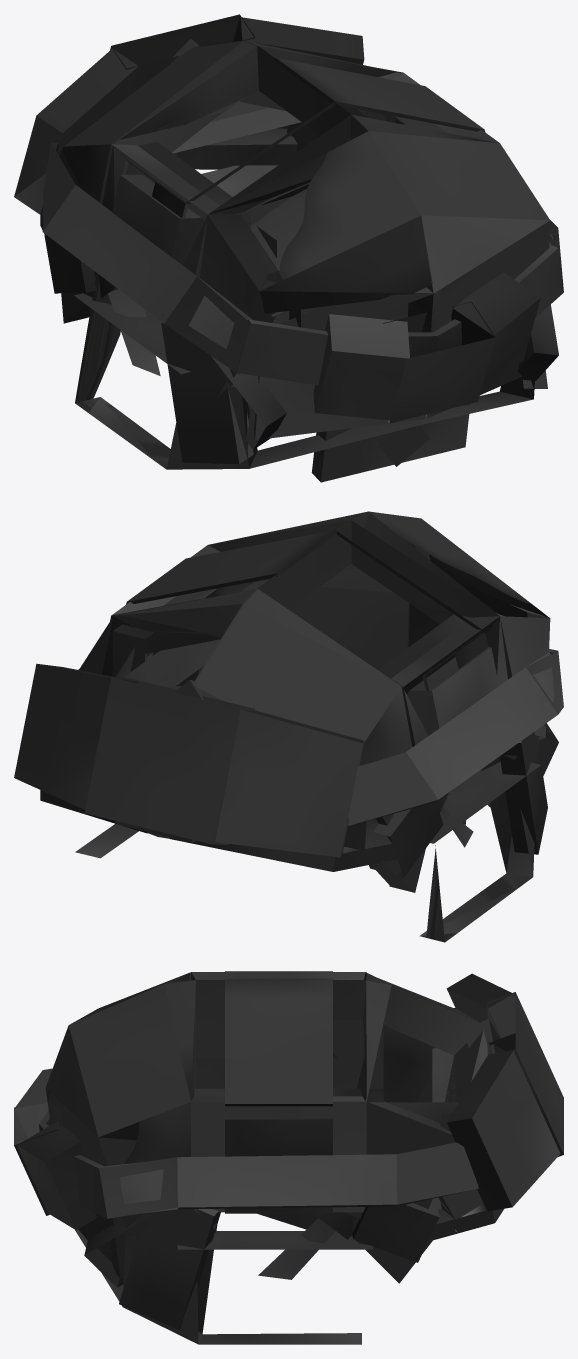
The model's file is swat_kit_h.obj.
The picture shows the model from 3 angles, top to bottom: view 1: azimuth 30°, elevation 25°; view 2: azimuth 150°, elevation 25°; view 3: azimuth 270°, elevation 25°; orthographic projection. The views are drawn at different scales.
Parts seen in each view (by area): view 1: cube; view 2: cube; view 3: cube.
Boxes of the visible parts, <box> form: cube: <box>14,14,563,482</box>; cube: <box>14,511,563,942</box>; cube: <box>14,971,563,1344</box>.
Size of the model in its own units: 0.7693 by 0.5973 by 1.02.
